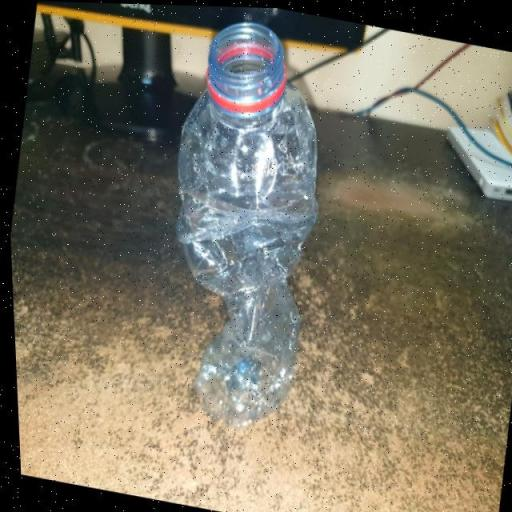plastic: (130, 3, 354, 437)
